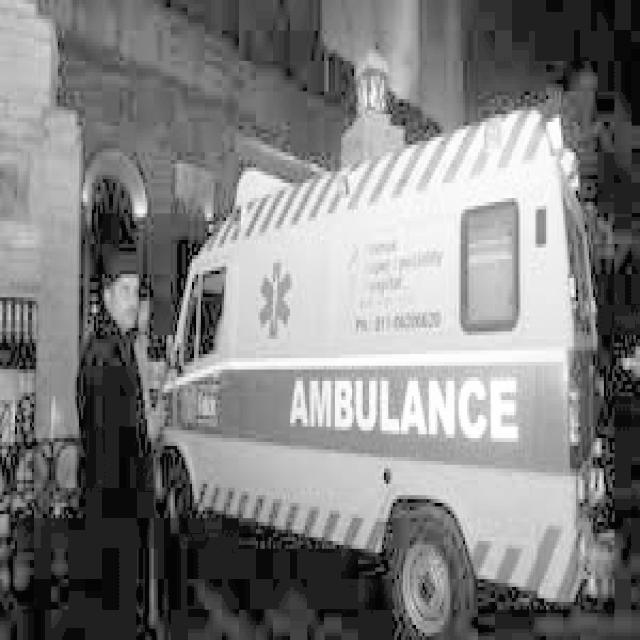Ambulance: (156, 114, 612, 598)
